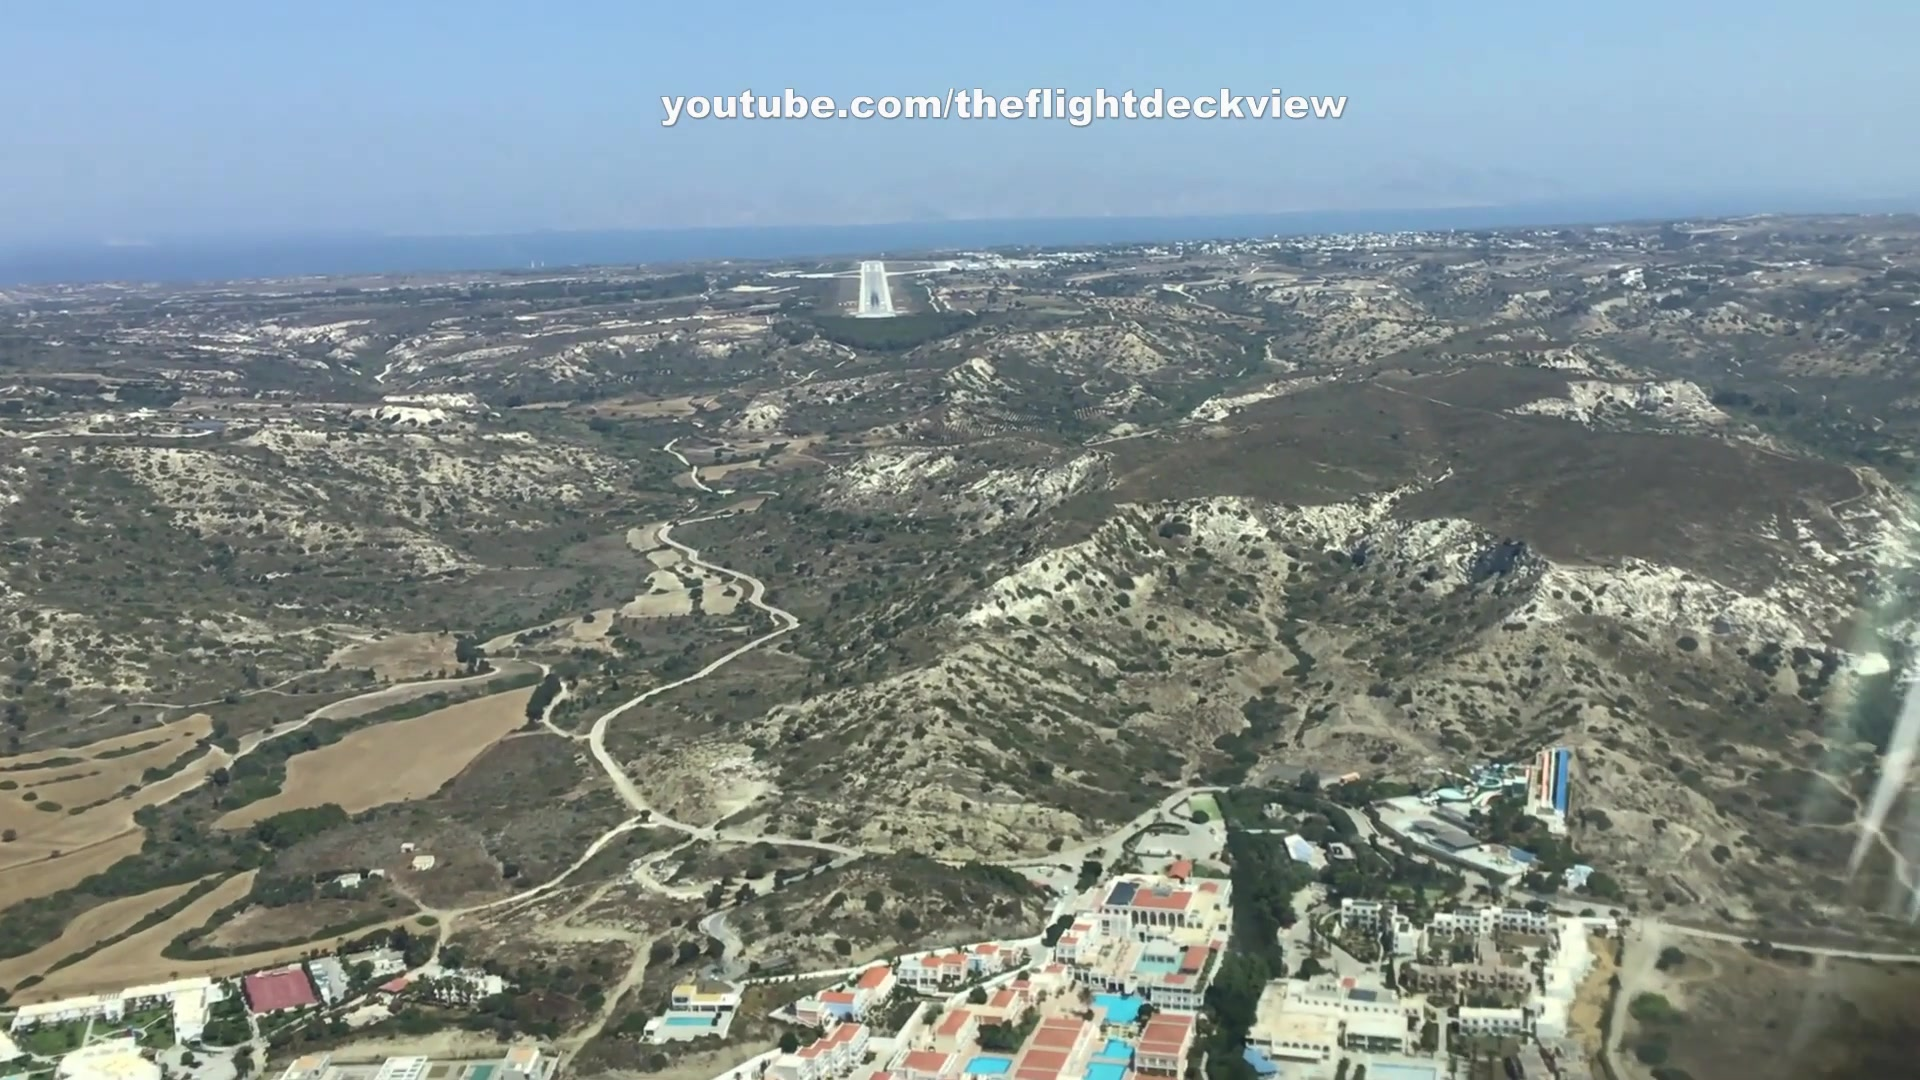runway: (855, 260, 899, 320)
